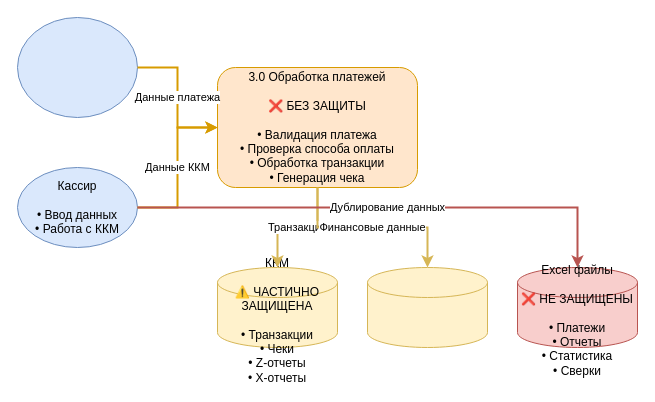
This 655x402 diagram has some shape labels left out. Here are the shapes that lost their labels. From the top down, the centre of each, then its label:
At (x=77, y=67): "Пациент • Оплата услуг • Способ оплаты • Сумма".
At (x=427, y=307): "1С Бухгалтерия ⚠️ ЧАСТИЧНО ЗАЩИЩЕНА • Счета • Платежи • Клиенты • Налоги".
